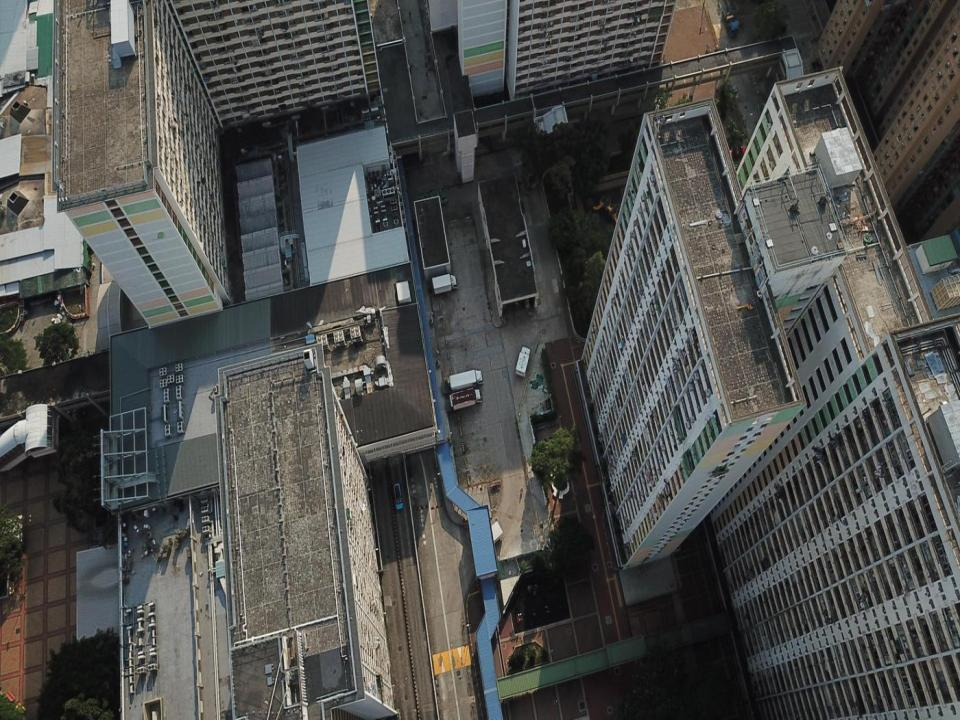car: (393, 481, 404, 510)
truck: (448, 386, 483, 411), (449, 369, 484, 393), (480, 521, 503, 554), (431, 273, 459, 295), (722, 6, 740, 38), (515, 346, 531, 378)
